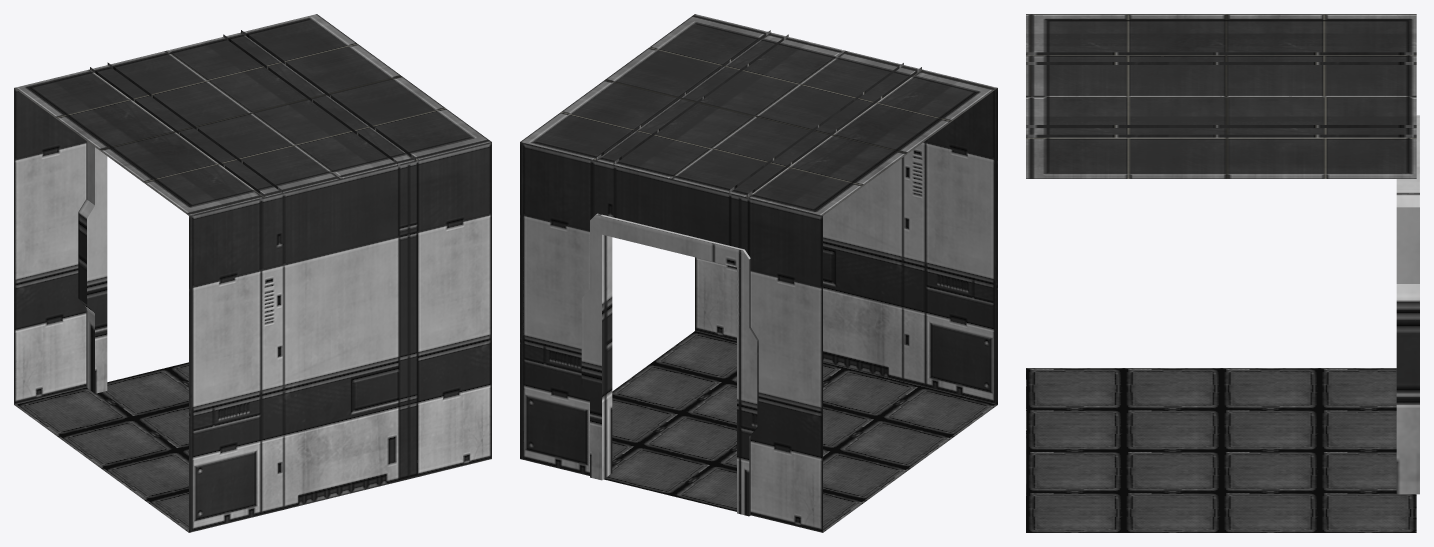
Rendered from CorridorMainDoor1.fbx.
3 views of the same model, side by side, from view 1: azimuth 30°, elevation 25°; view 2: azimuth 150°, elevation 25°; view 3: azimuth 270°, elevation 25° (orthographic). The views are drawn at different scales.
Visible parts, largest first — view 1: CorridorMainDoor1; view 2: CorridorMainDoor1; view 3: CorridorMainDoor1.
Part boxes in pixels (x1,y1,x2,y2): CorridorMainDoor1: (14, 14, 491, 532); CorridorMainDoor1: (520, 14, 997, 532); CorridorMainDoor1: (1026, 14, 1419, 532).
Size of the model in its own units: 5 by 5.04 by 5.04.
